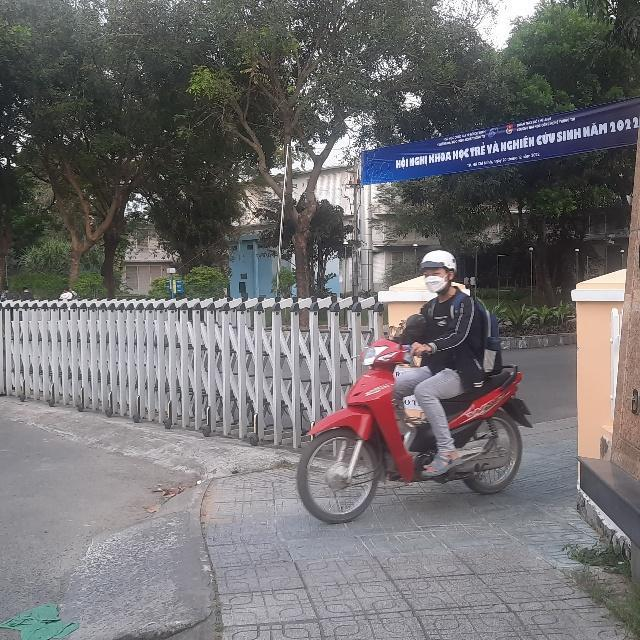Helmet: (419, 250, 461, 298)
